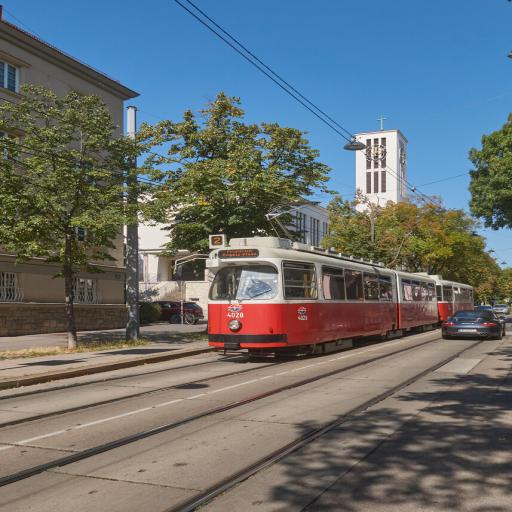E2-Tram: (208, 235, 473, 354)
